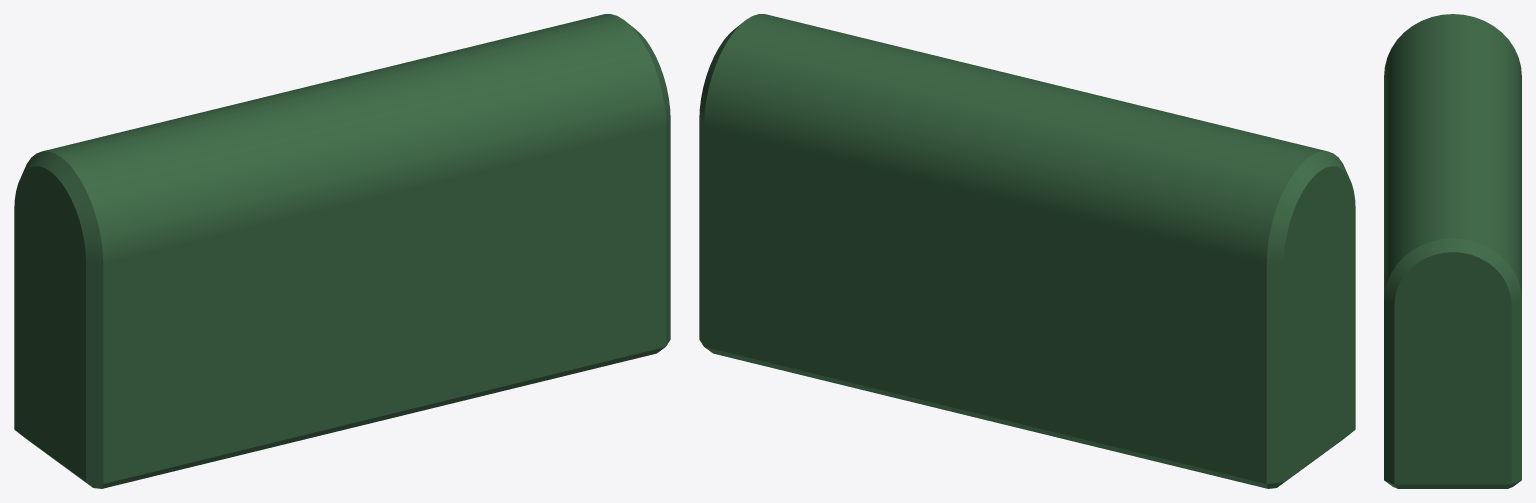
File: BreadBaron_Bush.fbx
The picture shows the model from 3 angles, left to right: view 1: azimuth 30°, elevation 25°; view 2: azimuth 150°, elevation 25°; view 3: azimuth 270°, elevation 25°; orthographic projection. The views are drawn at different scales.
Visible parts, largest first — view 1: pCube1, pCylinder1; view 2: pCube1, pCylinder1; view 3: pCylinder1, pCube1.
Part boxes in pixels (x1,y1,x2,y2): pCube1: (14, 120, 670, 488); pCylinder1: (14, 14, 670, 306); pCube1: (699, 120, 1355, 488); pCylinder1: (699, 14, 1355, 306); pCylinder1: (1384, 14, 1521, 358); pCube1: (1384, 301, 1521, 488).
Size of the model in its own units: 4 by 2 by 1.
